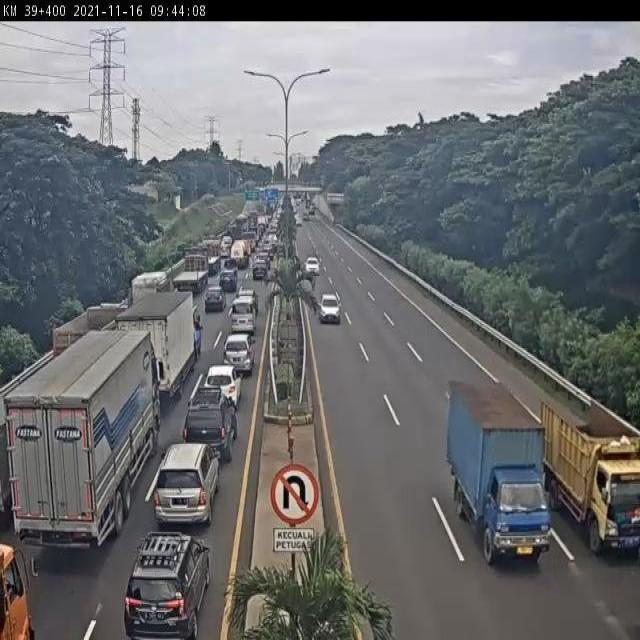Car: (124, 530, 210, 638), (151, 442, 220, 527), (182, 386, 238, 462), (202, 364, 242, 409), (223, 334, 255, 376), (318, 292, 341, 324), (235, 288, 257, 315), (203, 286, 224, 312), (219, 266, 238, 292), (252, 258, 269, 280), (304, 257, 320, 276), (295, 216, 303, 226), (303, 212, 310, 221), (309, 207, 315, 215)
Truck: (0, 322, 163, 550), (446, 380, 556, 568), (538, 398, 640, 556), (115, 291, 196, 406), (0, 540, 34, 637), (175, 254, 210, 297), (131, 271, 169, 302), (203, 239, 223, 268), (230, 240, 250, 268)
